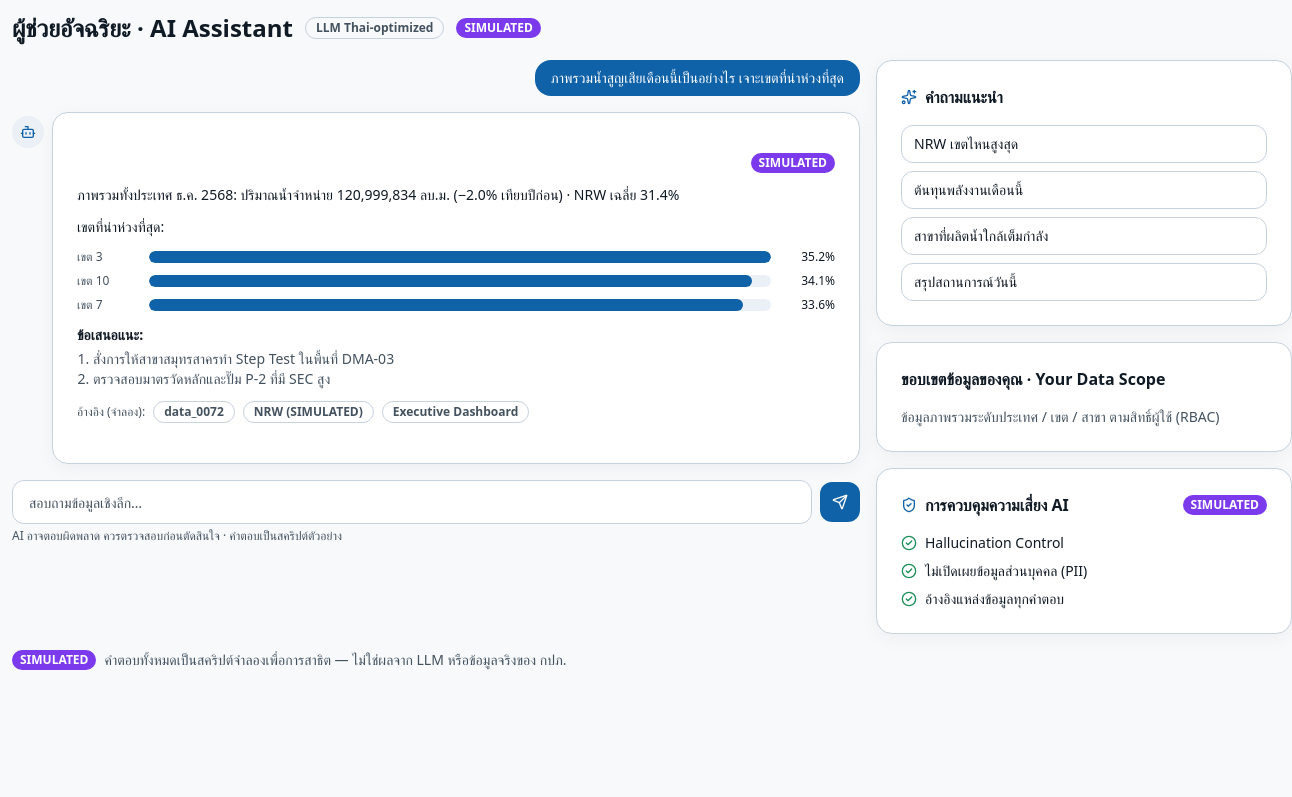
Scenario: AiAssistantScreen › asks a suggested question and appends a user turn + a new answer
Click the button "ต้นทุนพลังงานเดือนนี้" at (969, 190), box 901,171 -> 1267,209
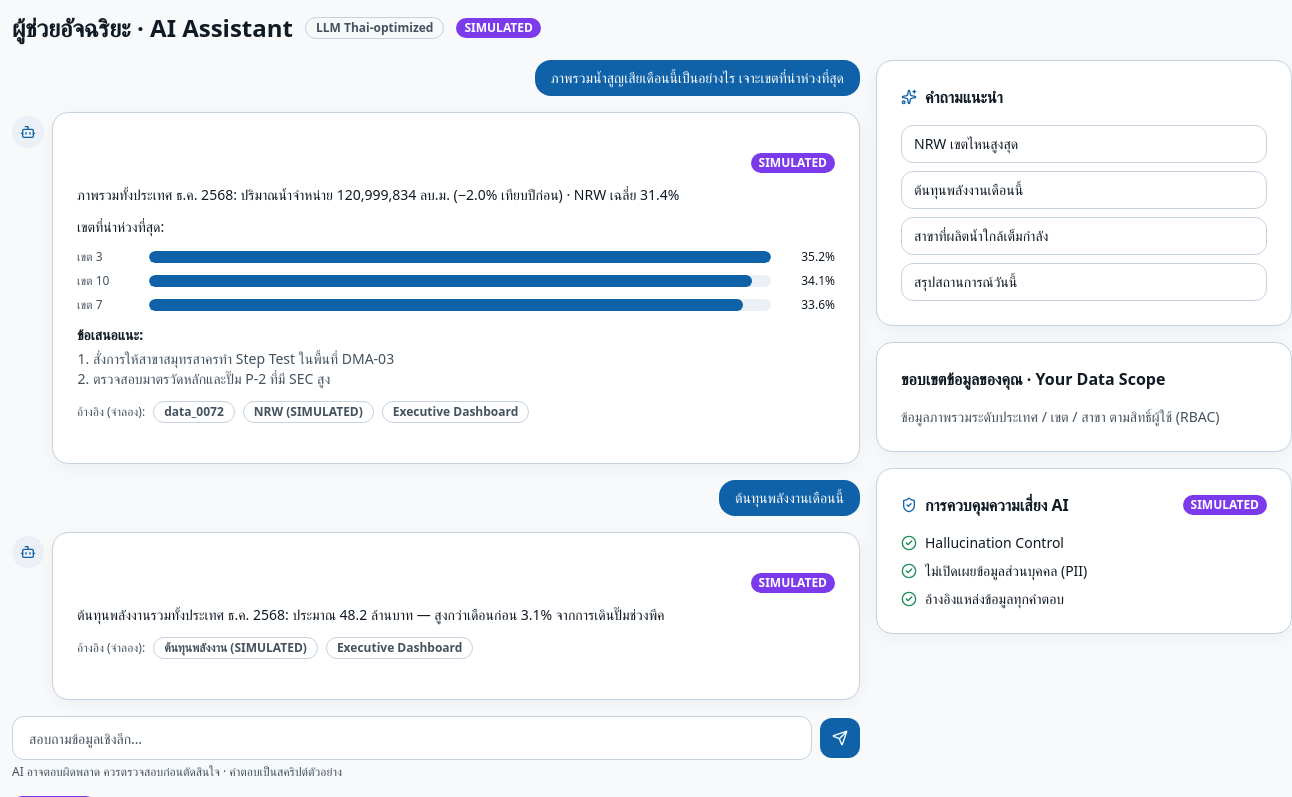
Now the text "ต้นทุนพลังงานเดือนนี้" is shown, box 719,480 -> 860,516
Now the number of elements with test id "chat-assistant" is 2, box 12,112 -> 860,464; 12,532 -> 860,700
Now the text "ต้นทุนพลังงานรวมทั้งประเทศ" is shown, box 77,605 -> 664,624
